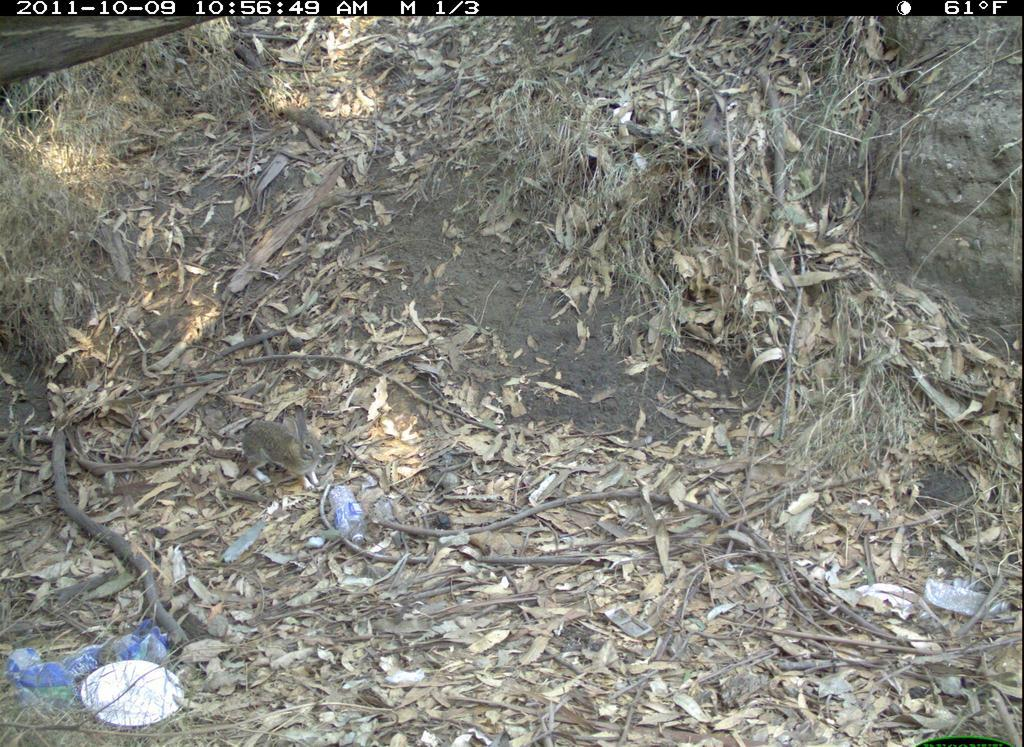rabbit: (241, 404, 328, 494)
